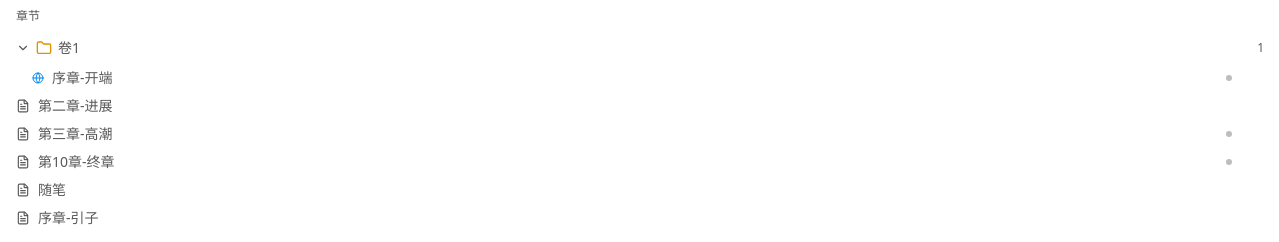
Test: KnowledgeTree › 文件夹展开/折叠切换
The width and height of the screenshot is (1279, 242).
Expected: the text "序章-开端" is shown, [52,68,112,87]
Click the text "卷1" at (69, 48), box [58,38,80,58]
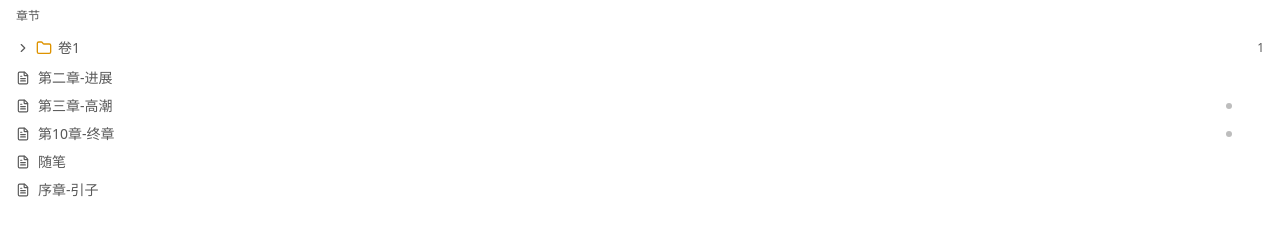
Expected: the button "序章-开端" is gone
Click the text "卷1" at (69, 48), box [58,38,80,58]
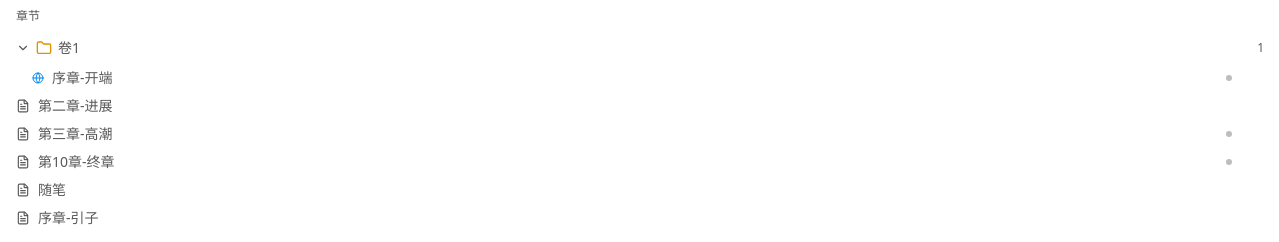
Expected: the text "序章-开端" is shown, [52,68,112,87]
